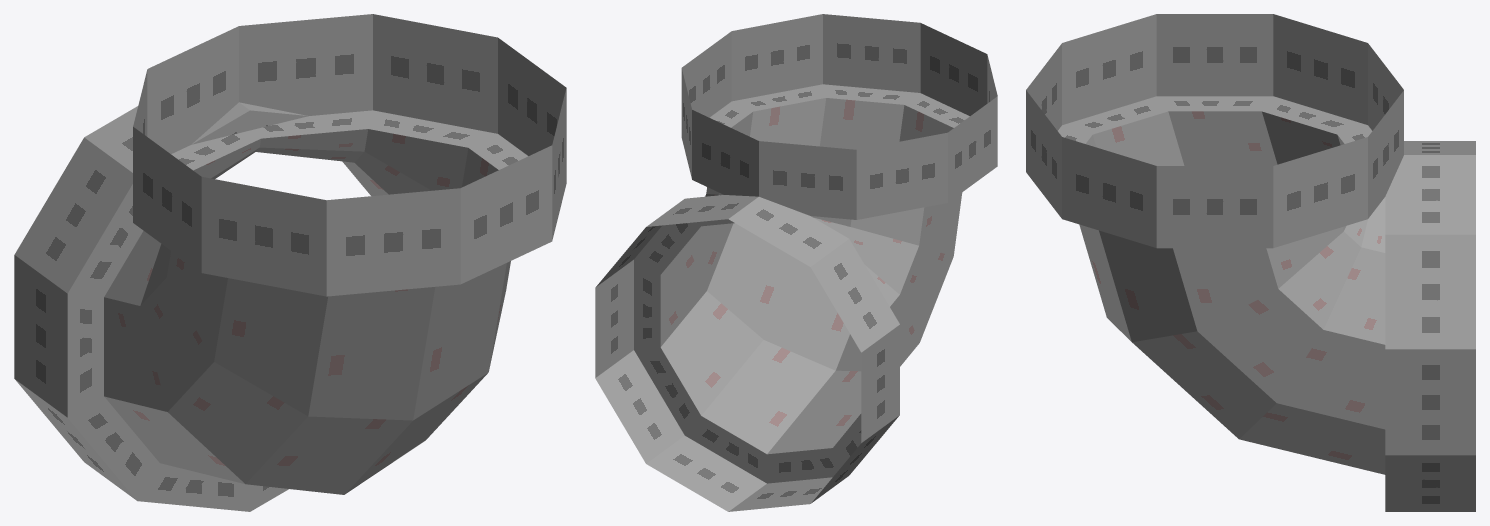
The model's file is Pipe_1.fbx.
3 views of the same model, side by side, from view 1: azimuth 30°, elevation 25°; view 2: azimuth 150°, elevation 25°; view 3: azimuth 270°, elevation 25° (orthographic). The views are drawn at different scales.
Visible parts, largest first — view 1: Pipe_1; view 2: Pipe_1; view 3: Pipe_1.
Part boxes in pixels (left/top/right/bottom): Pipe_1: left=14, top=14, right=566, bottom=511; Pipe_1: left=595, top=14, right=997, bottom=511; Pipe_1: left=1026, top=14, right=1475, bottom=511.
Bounding box in the file's own units: 59.44 × 74.38 × 74.37.
